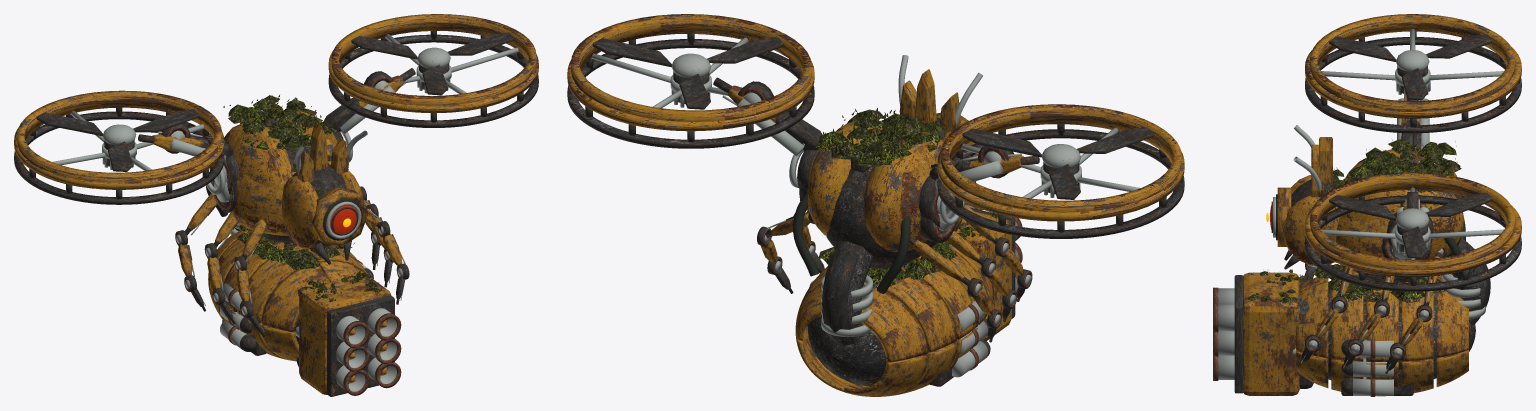
The model's file is queen-wasp-boss.glb.
3 renders of one model, left to right at view 1: azimuth 30°, elevation 25°; view 2: azimuth 150°, elevation 25°; view 3: azimuth 270°, elevation 25°, orthographic. The views are drawn at different scales.
Visible parts, largest first — view 1: Rotor_mount_1_Mesh, Rotor_mount_-1_Mesh, Stinger_gun_Mesh, Abdomen_Mesh, Thorax_Mesh, Head_Mesh, Rotor_1_Mesh, Rotor_-1_Mesh, Wasp_leg_-1_2_Mesh, Wasp_leg_-1_0_Mesh, Wasp_leg_-1_1_Mesh, Wasp_leg_1_0_Mesh (+1 smaller); view 2: Abdomen_Mesh, Thorax_Mesh, Rotor_mount_1_Mesh, Rotor_mount_-1_Mesh, Rotor_1_Mesh, Rotor_-1_Mesh, Head_Mesh, Stinger_gun_Mesh, Wasp_leg_-1_2_Mesh, Wasp_leg_-1_1_Mesh, Wasp_leg_1_2_Mesh, Wasp_leg_-1_0_Mesh; view 3: Abdomen_Mesh, Rotor_mount_-1_Mesh, Rotor_mount_1_Mesh, Stinger_gun_Mesh, Thorax_Mesh, Head_Mesh, Rotor_1_Mesh, Rotor_-1_Mesh, Wasp_leg_1_2_Mesh, Wasp_leg_1_0_Mesh, Wasp_leg_1_1_Mesh.
Boxes of the visible parts, x1,y1,x2,y2 form: Rotor_mount_1_Mesh: (323, 14, 538, 134); Rotor_mount_-1_Mesh: (14, 90, 233, 204); Stinger_gun_Mesh: (293, 271, 401, 396); Abdomen_Mesh: (208, 224, 373, 361); Thorax_Mesh: (206, 95, 352, 242); Head_Mesh: (281, 122, 368, 264); Rotor_1_Mesh: (351, 32, 514, 95); Rotor_-1_Mesh: (36, 109, 199, 171); Wasp_leg_-1_2_Mesh: (175, 193, 217, 311); Wasp_leg_-1_0_Mesh: (234, 216, 268, 337); Wasp_leg_-1_1_Mesh: (204, 212, 237, 324); Wasp_leg_1_0_Mesh: (365, 206, 409, 304); Abdomen_Mesh: (795, 241, 993, 396); Thorax_Mesh: (789, 108, 965, 293); Rotor_mount_1_Mesh: (567, 14, 822, 156); Rotor_mount_-1_Mesh: (929, 104, 1184, 238); Rotor_1_Mesh: (592, 37, 783, 109); Rotor_-1_Mesh: (962, 127, 1153, 199); Head_Mesh: (898, 55, 982, 182); Stinger_gun_Mesh: (956, 202, 1022, 340); Wasp_leg_-1_2_Mesh: (909, 237, 1001, 342); Wasp_leg_-1_1_Mesh: (946, 231, 1017, 322); Wasp_leg_1_2_Mesh: (757, 212, 814, 293); Wasp_leg_-1_0_Mesh: (964, 205, 1032, 301); Abdomen_Mesh: (1296, 237, 1490, 396); Rotor_mount_-1_Mesh: (1305, 14, 1521, 149); Rotor_mount_1_Mesh: (1305, 172, 1521, 291); Stinger_gun_Mesh: (1213, 269, 1313, 395); Thorax_Mesh: (1336, 139, 1466, 289); Head_Mesh: (1266, 125, 1351, 269); Rotor_1_Mesh: (1329, 192, 1492, 258); Rotor_-1_Mesh: (1329, 34, 1492, 100); Wasp_leg_1_2_Mesh: (1385, 246, 1446, 373); Wasp_leg_1_0_Mesh: (1300, 266, 1353, 364); Wasp_leg_1_1_Mesh: (1342, 275, 1394, 369).
Bounding box in the file's own units: 5.05 × 2.41 × 2.63.
8 materials, 4 textured.
